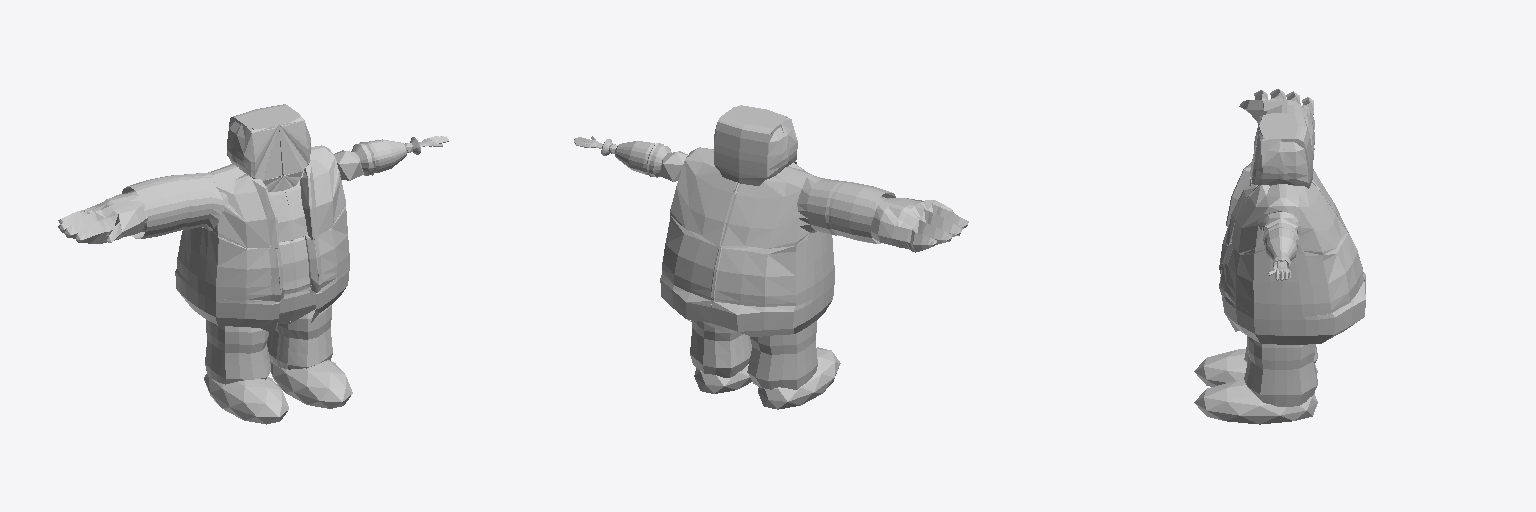
Rendered from dr_poopy_Fart.obj.
3 renders of one model, left to right at view 1: azimuth 30°, elevation 25°; view 2: azimuth 150°, elevation 25°; view 3: azimuth 270°, elevation 25°, orthographic.
Visible parts, largest first — view 1: Lab_Coat_Plane.002, Torso_Plane.001, Head_Plane, Boots_Icosphere, Lab_Coat_Left_Arm_Plane.003, Left_Hand_Cylinder.006, Right_Arm_Plane.005; view 2: Lab_Coat_Plane.002, Torso_Plane.001, Head_Plane, Lab_Coat_Left_Arm_Plane.003, Left_Hand_Cylinder.006, Boots_Icosphere, Right_Arm_Plane.005; view 3: Lab_Coat_Plane.002, Boots_Icosphere, Torso_Plane.001, Head_Plane, Right_Arm_Plane.005, Left_Hand_Cylinder.006.
Boxes of the visible parts, x1=… form: Lab_Coat_Plane.002: x1=175, y1=145, x2=349, y2=332; Torso_Plane.001: x1=205, y1=174, x2=332, y2=384; Head_Plane: x1=227, y1=104, x2=310, y2=191; Boots_Icosphere: x1=204, y1=360, x2=352, y2=424; Lab_Coat_Left_Arm_Plane.003: x1=122, y1=172, x2=227, y2=238; Left_Hand_Cylinder.006: x1=58, y1=193, x2=147, y2=243; Right_Arm_Plane.005: x1=334, y1=137, x2=420, y2=180; Lab_Coat_Plane.002: x1=660, y1=147, x2=834, y2=336; Torso_Plane.001: x1=690, y1=302, x2=817, y2=389; Head_Plane: x1=714, y1=105, x2=797, y2=185; Lab_Coat_Left_Arm_Plane.003: x1=797, y1=175, x2=895, y2=243; Left_Hand_Cylinder.006: x1=870, y1=198, x2=968, y2=252; Boots_Icosphere: x1=694, y1=347, x2=840, y2=409; Right_Arm_Plane.005: x1=601, y1=139, x2=687, y2=181; Lab_Coat_Plane.002: x1=1219, y1=162, x2=1365, y2=344; Boots_Icosphere: x1=1194, y1=349, x2=1317, y2=424; Torso_Plane.001: x1=1244, y1=205, x2=1317, y2=406; Head_Plane: x1=1249, y1=113, x2=1313, y2=188; Right_Arm_Plane.005: x1=1263, y1=212, x2=1299, y2=268; Left_Hand_Cylinder.006: x1=1239, y1=89, x2=1314, y2=129.
Size of the model in its own units: 12.98 by 8.76 by 5.02.